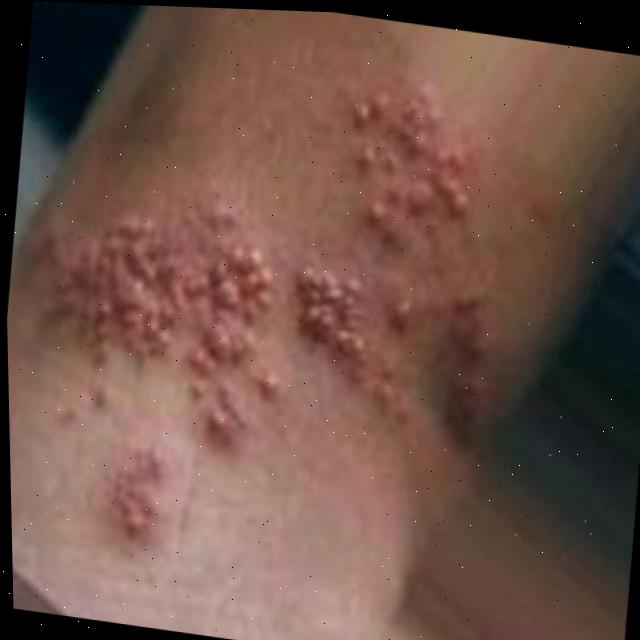Shingles: (286, 60, 511, 425), (6, 170, 286, 435), (103, 435, 179, 551)
